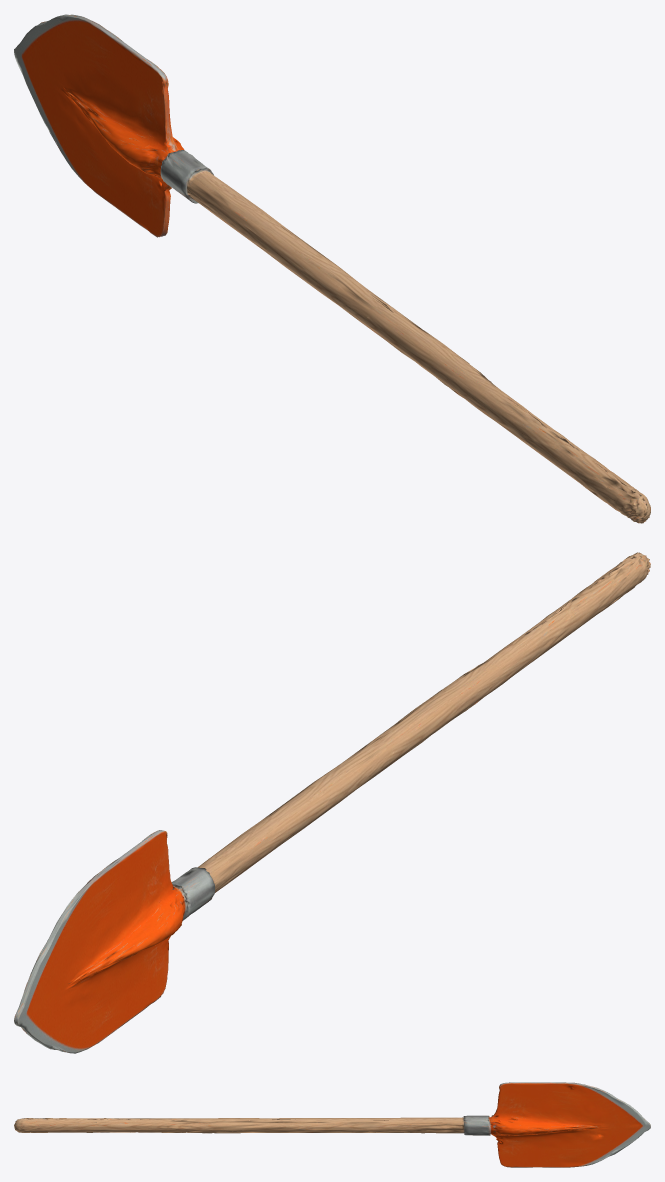
The model's file is weapon-track-shovel.glb.
The picture shows the model from 3 angles, top to bottom: view 1: azimuth 30°, elevation 25°; view 2: azimuth 150°, elevation 25°; view 3: azimuth 270°, elevation 25°; orthographic projection. The views are drawn at different scales.
Parts seen in each view (by area): view 1: track_shovel; view 2: track_shovel; view 3: track_shovel.
Boxes of the visible parts, x1,y1,x2,y2 form: track_shovel: (14,14,650,523); track_shovel: (14,552,650,1053); track_shovel: (14,1082,650,1167).
Bounding box in the file's own units: 0.0571 × 0.1834 × 1.25.
Materials: 1 (1 with a texture image).
